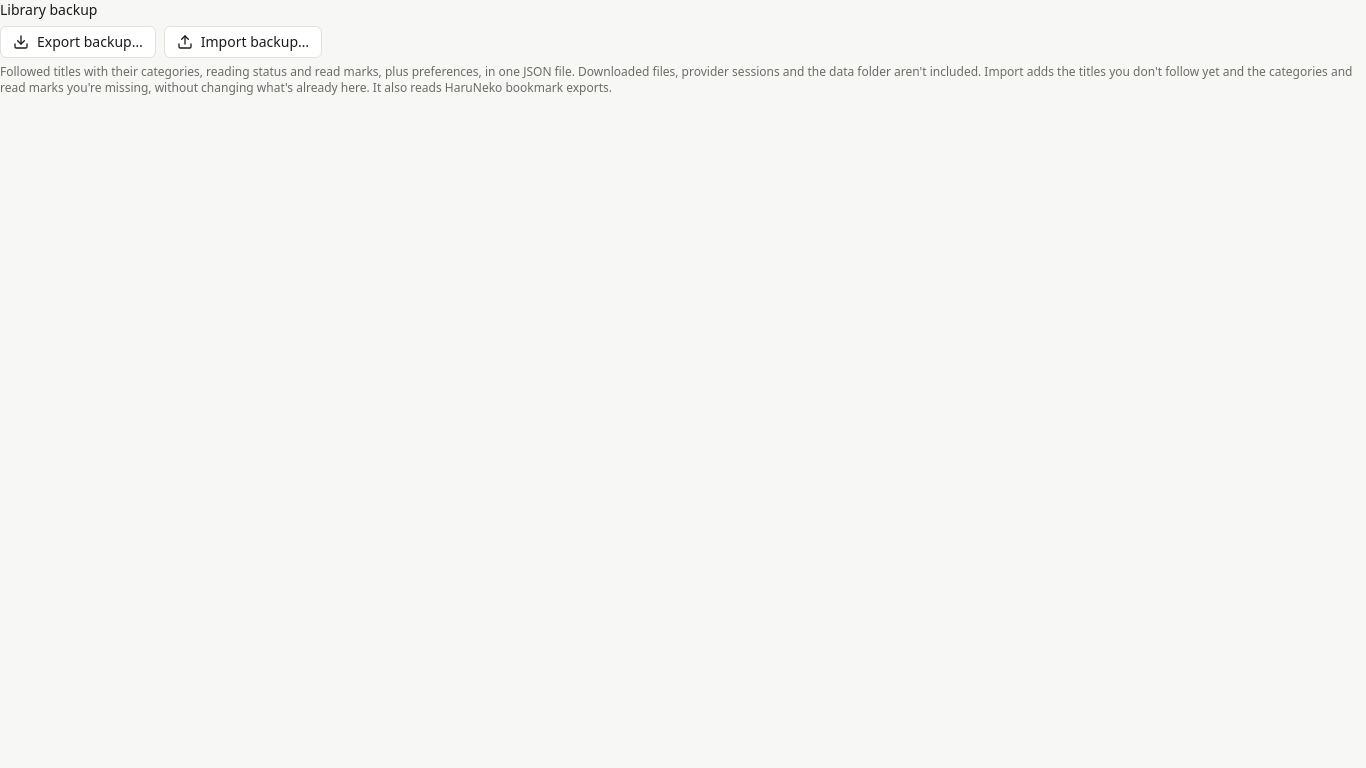
Test case: restore dialog › takes the backup's preferences into an empty library, or when unticked
This screenshot has width=1366, height=768.
Later steps or results of the test are not shown.
Step 1. Click the button "Import backup…" → (243, 42), box top-left (164, 26), bottom-right (322, 58)
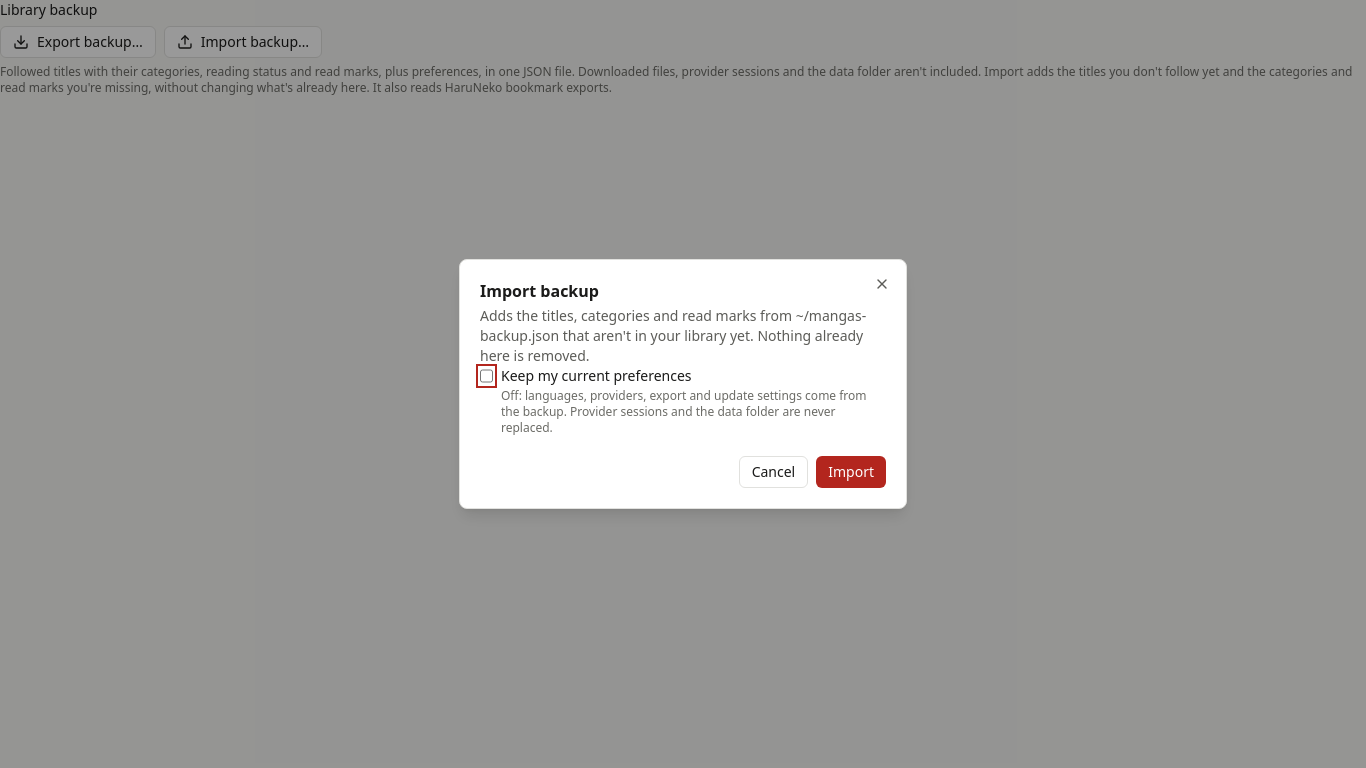
Check: the checkbox labelled "Keep my current preferences" is not checked
Step 2. Click the checkbox labelled "Keep my current preferences" → (486, 376), box top-left (480, 368), bottom-right (493, 384)
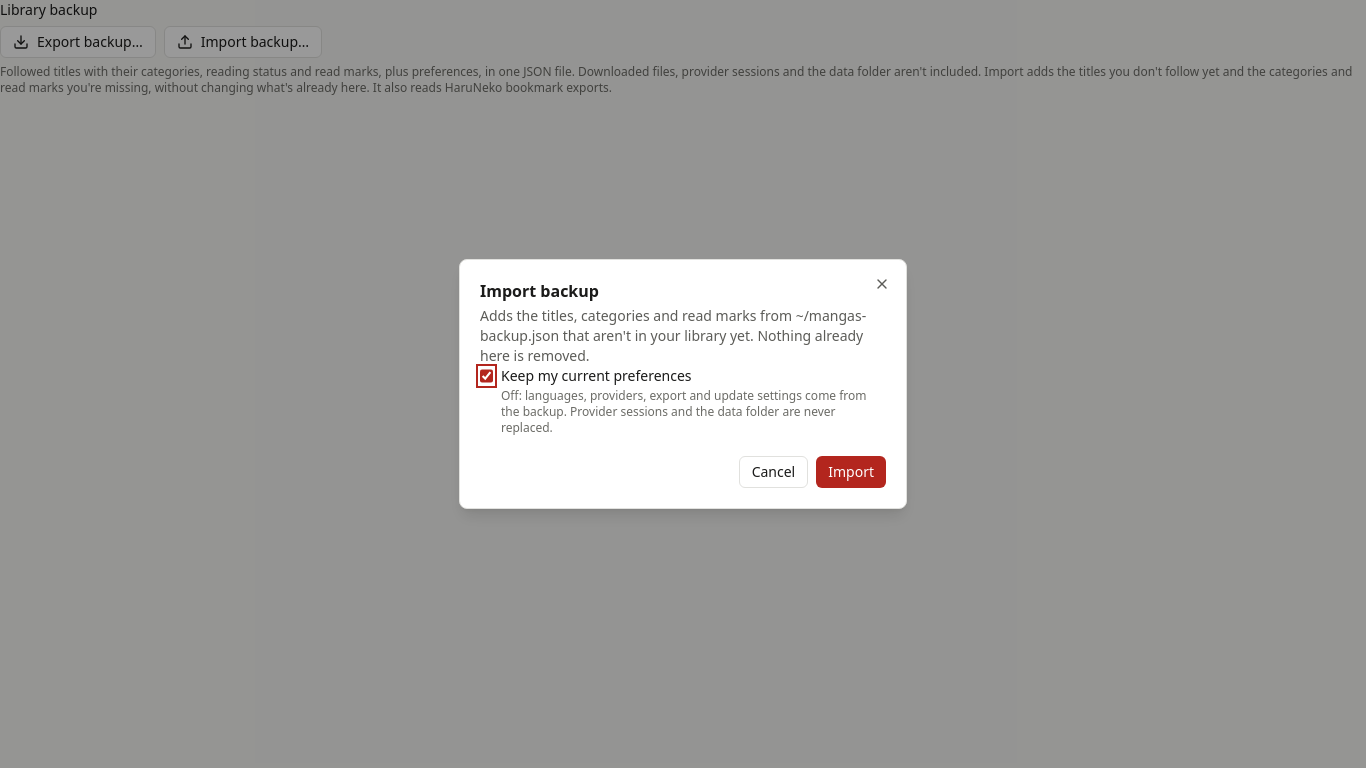
Step 3. Click the checkbox labelled "Keep my current preferences" → (486, 376), box top-left (480, 368), bottom-right (493, 384)
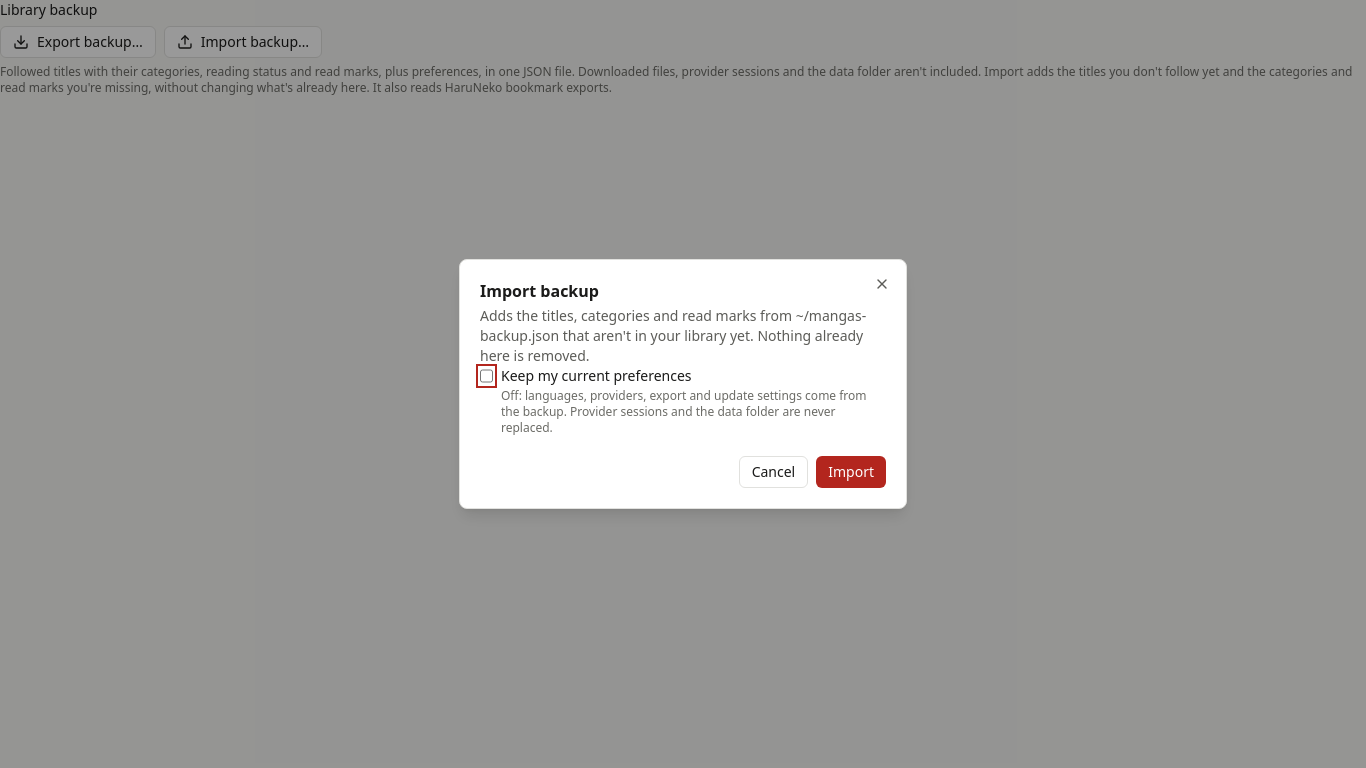
Check: the button "Import" is enabled, box top-left (816, 456), bottom-right (886, 488)
